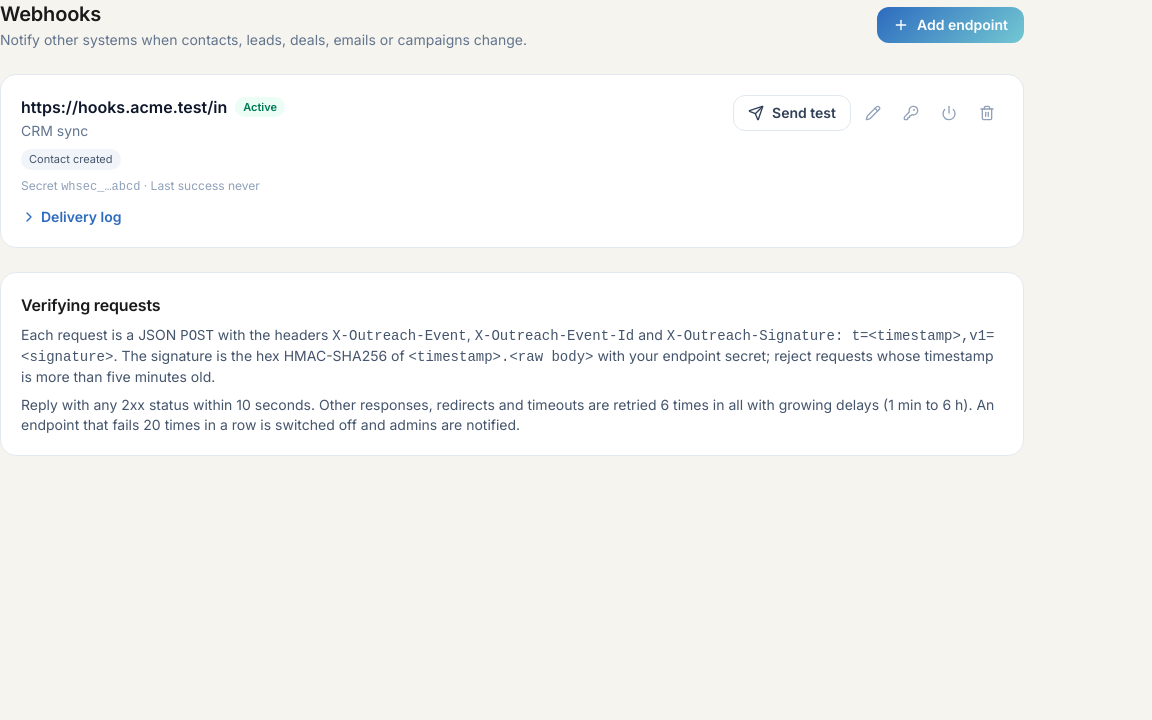
Scenario: Webhooks page › opens the add-endpoint dialog
The width and height of the screenshot is (1152, 720).
Expected: the text "https://hooks.acme.test/in" is shown, [21, 95, 227, 119]
What coordinates should you click on to do the following:
click the button "Add endpoint"
I would click on:
 (950, 25)
Its box is [877, 7, 1024, 43].
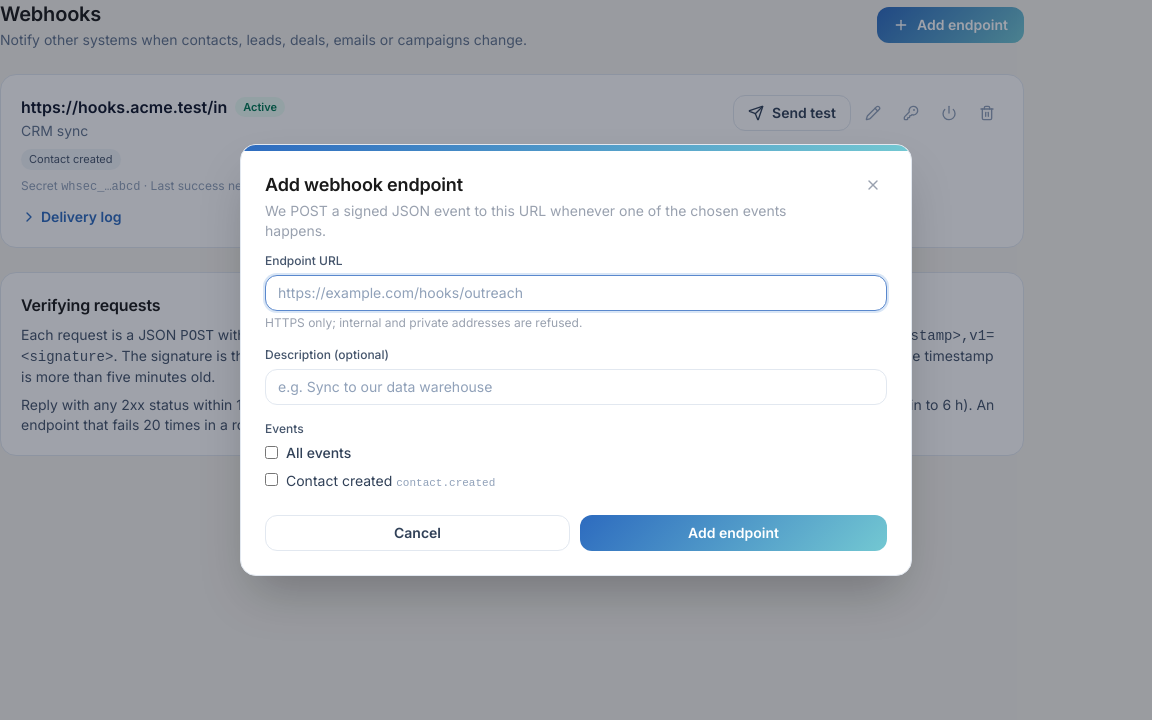
Now the text "Contact created" is shown, box [286, 472, 392, 489]
